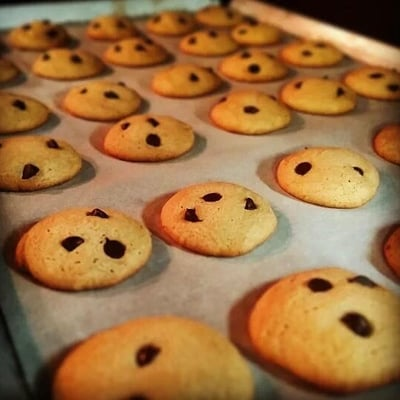salad: (232, 268, 400, 394), (275, 147, 380, 209), (0, 135, 83, 192), (103, 114, 195, 162), (209, 91, 291, 135), (61, 81, 142, 121), (278, 77, 356, 115), (219, 47, 288, 83), (150, 64, 221, 98), (31, 48, 105, 80), (342, 66, 400, 101), (0, 93, 49, 133), (278, 41, 344, 68), (372, 123, 400, 166), (383, 222, 400, 282)
sushi: (15, 206, 153, 291), (158, 182, 278, 257)
